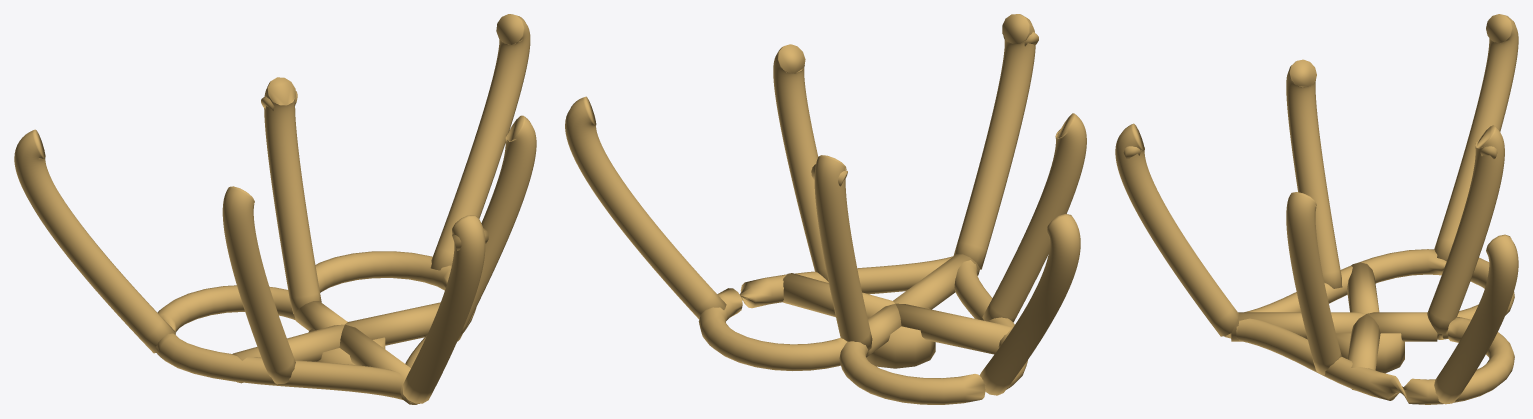
Rendered from stuller-lg-603314-6-prong.glb.
The picture shows the model from 3 angles, left to right: view 1: azimuth 30°, elevation 25°; view 2: azimuth 150°, elevation 25°; view 3: azimuth 270°, elevation 25°; orthographic projection. The views are drawn at different scales.
Parts seen in each view (by area): view 1: Metal.318, Metal.325, Metal.323, Metal.324, Metal.326, Metal.327, Metal.328, Metal.319, Metal.322, Metal.321, Metal.320, Metal.317; view 2: Metal.318, Metal.323, Metal.327, Metal.326, Metal.325, Metal.324, Metal.328, Metal.321, Metal.319, Metal.317, Metal.322, Metal.320; view 3: Metal.318, Metal.327, Metal.324, Metal.326, Metal.325, Metal.328, Metal.323, Metal.322, Metal.320, Metal.319, Metal.321, Metal.317.
Boxes of the visible parts, x1,y1,x2,y2 form: Metal.318: (155,251,476,403); Metal.325: (14,129,175,353); Metal.323: (430,14,530,270); Metal.324: (264,77,321,314); Metal.326: (222,186,295,384); Metal.327: (402,215,485,403); Metal.328: (457,115,536,341); Metal.319: (345,302,440,345); Metal.322: (339,324,417,404); Metal.321: (232,324,344,383); Metal.320: (294,301,347,330); Metal.317: (308,328,385,364); Metal.318: (698,256,1027,404); Metal.323: (565,96,726,319); Metal.327: (953,14,1035,269); Metal.326: (982,113,1086,322); Metal.325: (979,214,1080,395); Metal.324: (814,155,872,350); Metal.328: (773,44,828,281); Metal.321: (895,303,1013,354); Metal.319: (783,273,894,317); Metal.317: (866,308,935,368); Metal.322: (893,254,980,309); Metal.320: (866,304,901,357); Metal.318: (1224,249,1514,404); Metal.327: (1115,123,1238,336); Metal.324: (1427,125,1504,334); Metal.326: (1286,59,1342,288); Metal.325: (1434,14,1518,261); Metal.328: (1286,192,1341,375); Metal.323: (1434,234,1518,404); Metal.322: (1231,312,1366,341); Metal.320: (1367,312,1437,341); Metal.319: (1347,314,1380,390); Metal.321: (1347,262,1379,313); Metal.317: (1336,333,1404,373).
Size of the model in its own units: 8.77 by 4.05 by 6.32.
